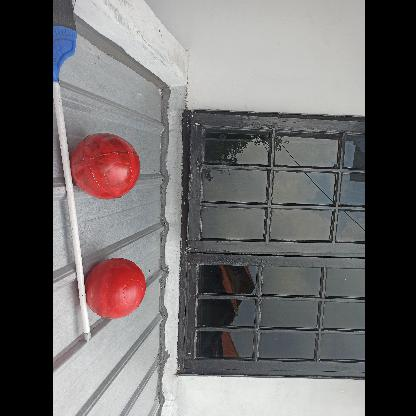red_ball: (72, 134, 141, 202), (86, 260, 146, 320)
